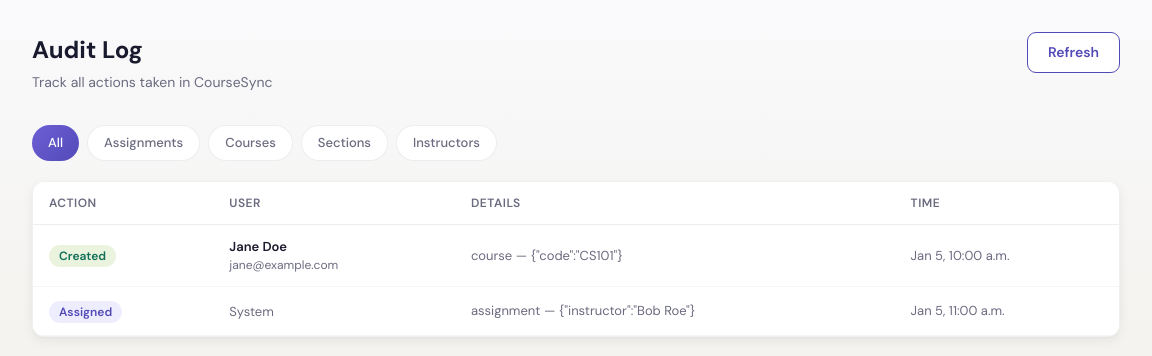
Test: AdminAudit › filters logs by entity type
Expected: the text "created" is shown, x1=49 y1=245 x2=116 y2=267
Click the button "Assignments": click(144, 143) x1=87 y1=125 x2=200 y2=160
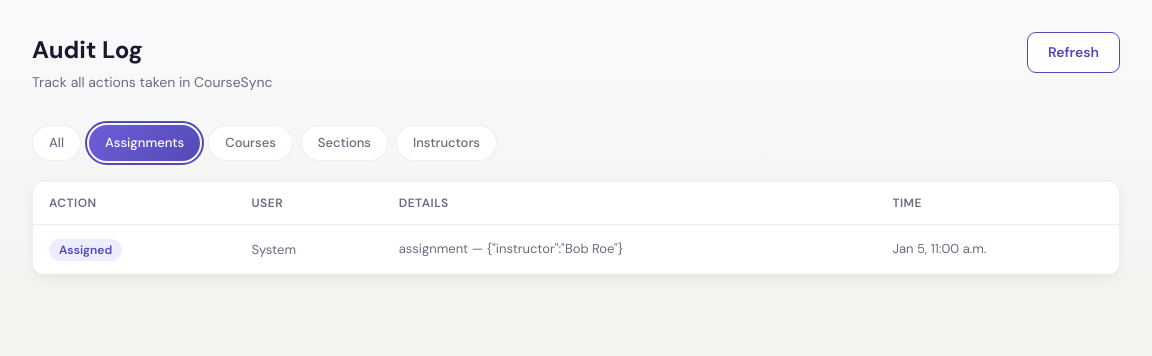
Expected: the text "assigned" is shown, x1=49 y1=238 x2=122 y2=260
Now the text "created" is gone
